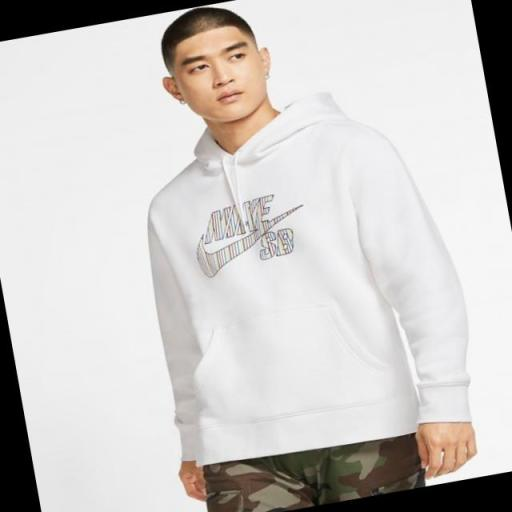Nike: (190, 220, 284, 282), (194, 193, 281, 247)
